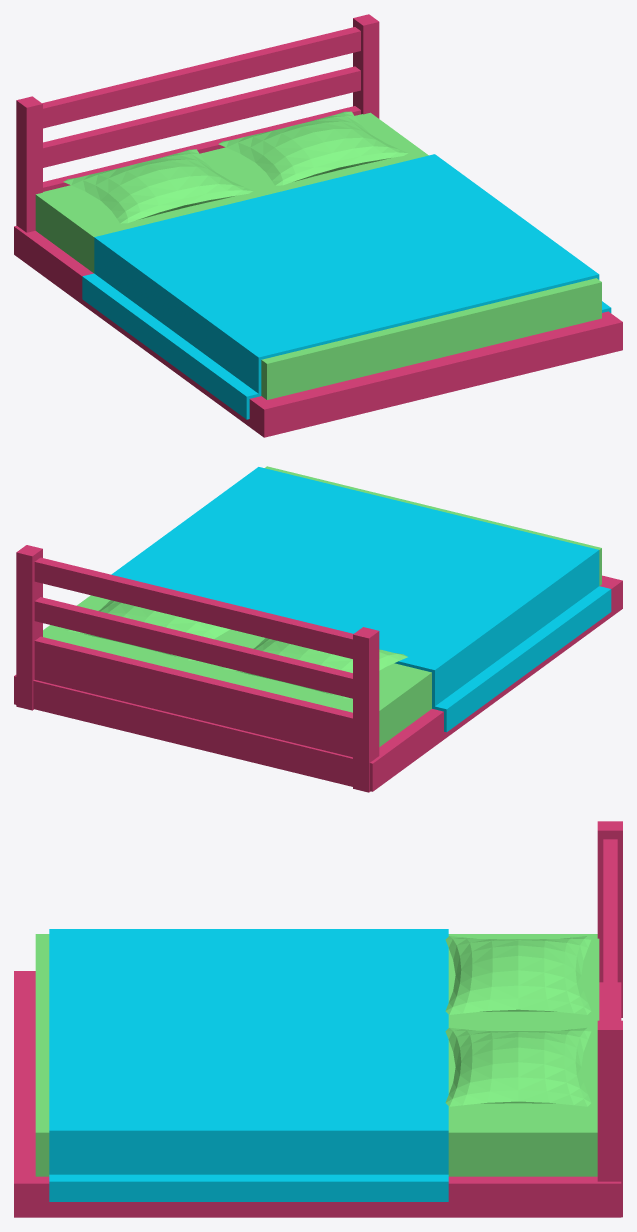
The model's file is Bed_03.fbx.
The picture shows the model from 3 angles, top to bottom: view 1: azimuth 30°, elevation 25°; view 2: azimuth 150°, elevation 25°; view 3: azimuth 270°, elevation 25°; orthographic projection. The views are drawn at different scales.
Visible parts, largest first — view 1: Bed_03; view 2: Bed_03; view 3: Bed_03.
Boxes of the visible parts, <box> form: Bed_03: <box>14,14,622,437</box>; Bed_03: <box>14,466,622,792</box>; Bed_03: <box>14,821,622,1217</box>.
Size of the model in its own units: 203 by 82.02 by 242.
